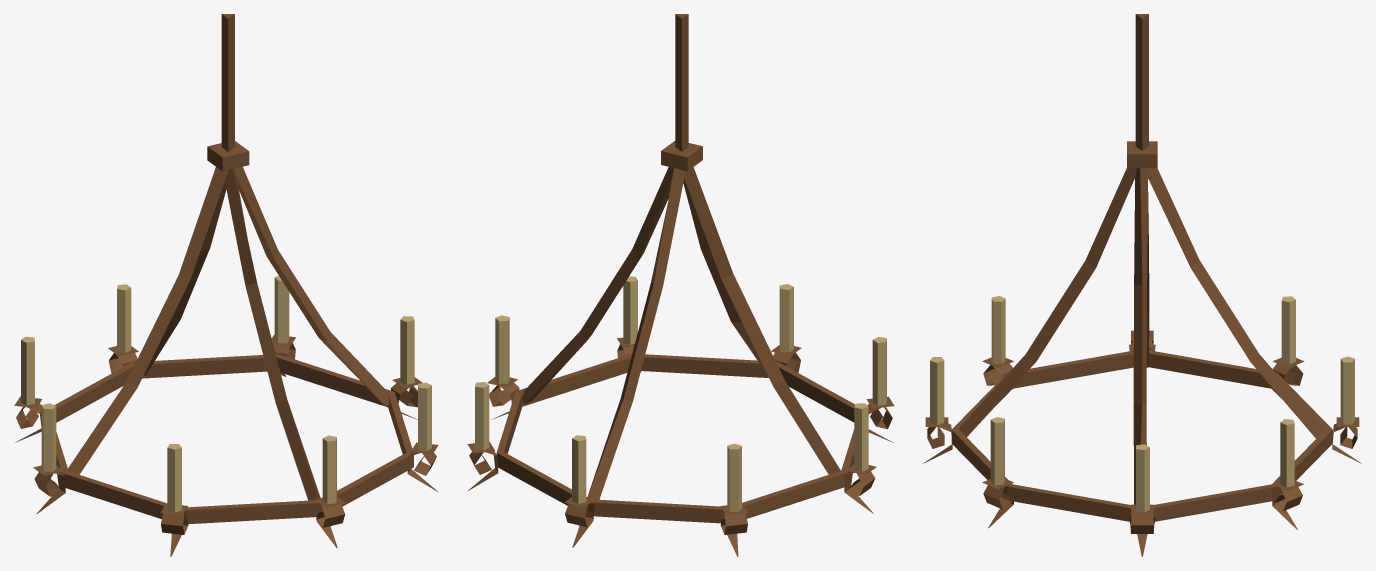
File: chandelier-roof.fbx
3 renders of one model, left to right at view 1: azimuth 30°, elevation 25°; view 2: azimuth 150°, elevation 25°; view 3: azimuth 270°, elevation 25°, orthographic.
Parts seen in each view (by area): view 1: Tube, Cylinder_1, Cylinder, Cylinder_3, Cylinder_4, Cylinder_2, Cylinder_8, Cylinder_6, Cylinder_5, Cylinder_11, Cylinder_7, Cylinder_12 (+6 smaller); view 2: Tube, Cylinder_1, Cylinder_2, Cylinder_3, Cylinder_4, Cylinder, Cylinder_8, Cylinder_7, Cylinder_12, Cylinder_6, Cylinder_5, Cylinder_11 (+6 smaller); view 3: Tube, Cylinder, Cylinder_2, Cylinder_3, Cylinder_4, Cylinder_9, Cylinder_7, Cylinder_12, Cylinder_10, Cylinder_11, Cylinder_5, Cylinder_6 (+4 smaller).
Boxes of the visible parts, box(x1,y1,x2,y2) form: Tube: box(54, 354, 413, 524); Cylinder_1: box(66, 167, 227, 474); Cylinder: box(225, 169, 320, 500); Cylinder_3: box(234, 167, 390, 407); Cylinder_4: box(221, 14, 234, 151); Cylinder_2: box(144, 181, 226, 375); Cylinder_8: box(41, 403, 56, 471); Cylinder_6: box(400, 316, 414, 384); Cylinder_5: box(322, 435, 336, 504); Cylinder_11: box(167, 444, 181, 512); Cylinder_7: box(117, 284, 131, 352); Cylinder_12: box(274, 276, 289, 343); Tube: box(496, 354, 855, 523); Cylinder_1: box(684, 167, 841, 474); Cylinder_2: box(587, 168, 685, 499); Cylinder_3: box(522, 167, 673, 403); Cylinder_4: box(675, 14, 688, 151); Cylinder: box(683, 179, 766, 373); Cylinder_8: box(854, 403, 868, 471); Cylinder_7: box(572, 435, 586, 503); Cylinder_12: box(475, 382, 489, 450); Cylinder_6: box(495, 315, 509, 383); Cylinder_5: box(779, 284, 793, 352); Cylinder_11: box(872, 337, 886, 405); Tube: box(951, 350, 1332, 521); Cylinder: box(959, 168, 1136, 436); Cylinder_2: box(1147, 168, 1325, 438); Cylinder_3: box(1133, 168, 1148, 504); Cylinder_4: box(1135, 14, 1148, 150); Cylinder_9: box(1281, 296, 1295, 364); Cylinder_7: box(1340, 356, 1354, 424); Cylinder_12: box(1280, 419, 1294, 487); Cylinder_10: box(990, 417, 1004, 485); Cylinder_11: box(991, 296, 1005, 363); Cylinder_5: box(930, 357, 944, 424); Cylinder_6: box(1136, 444, 1149, 512).
Bounding box in the file's own units: 57.61 × 64.89 × 57.48.
